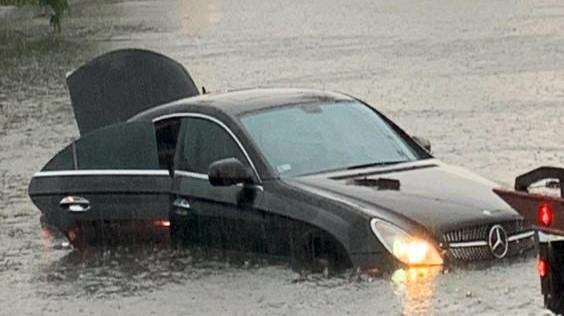water: (1, 2, 562, 314)
